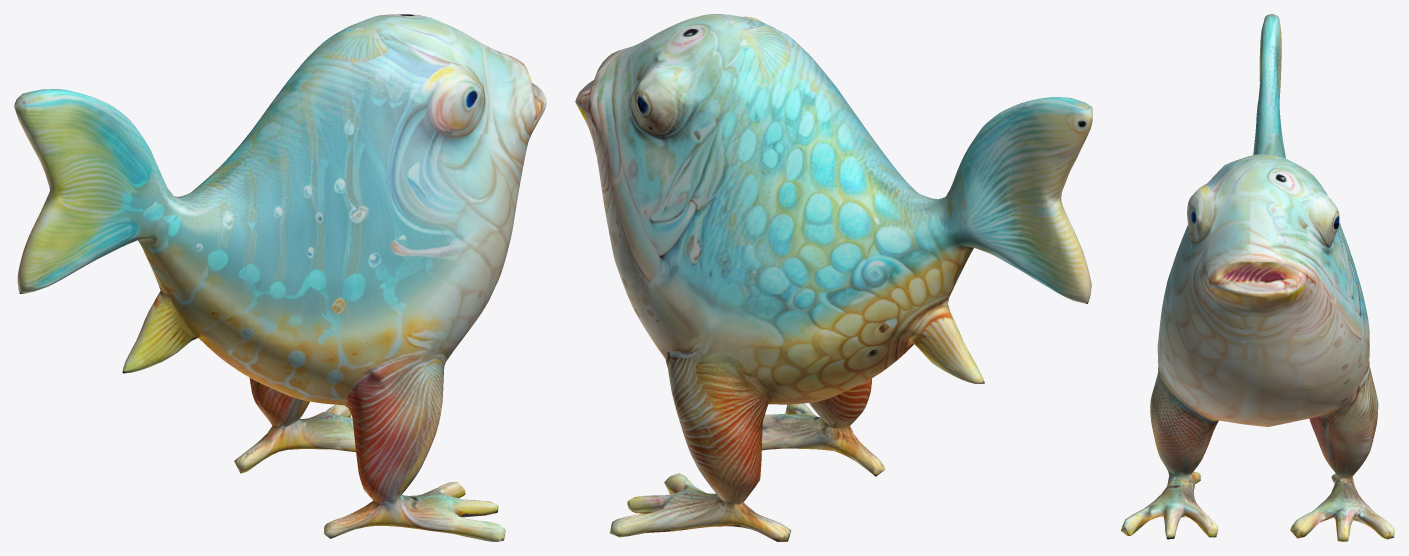
Rendered from fish.fbx.
The picture shows the model from 3 angles, left to right: view 1: azimuth 30°, elevation 25°; view 2: azimuth 150°, elevation 25°; view 3: azimuth 270°, elevation 25°; orthographic projection. The views are drawn at different scales.
Parts seen in each view (by area): view 1: Mesh_0; view 2: Mesh_0; view 3: Mesh_0.
Part boxes in pixels (x1,y1,x2,y2): Mesh_0: [14, 14, 546, 541]; Mesh_0: [575, 14, 1092, 541]; Mesh_0: [1121, 14, 1394, 541].
Bounding box in the file's own units: 120 × 106 × 70.24.
